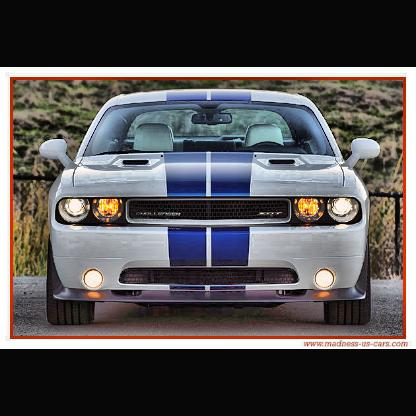Dodge Challenger SRT8 2011: (38, 89, 383, 328)
